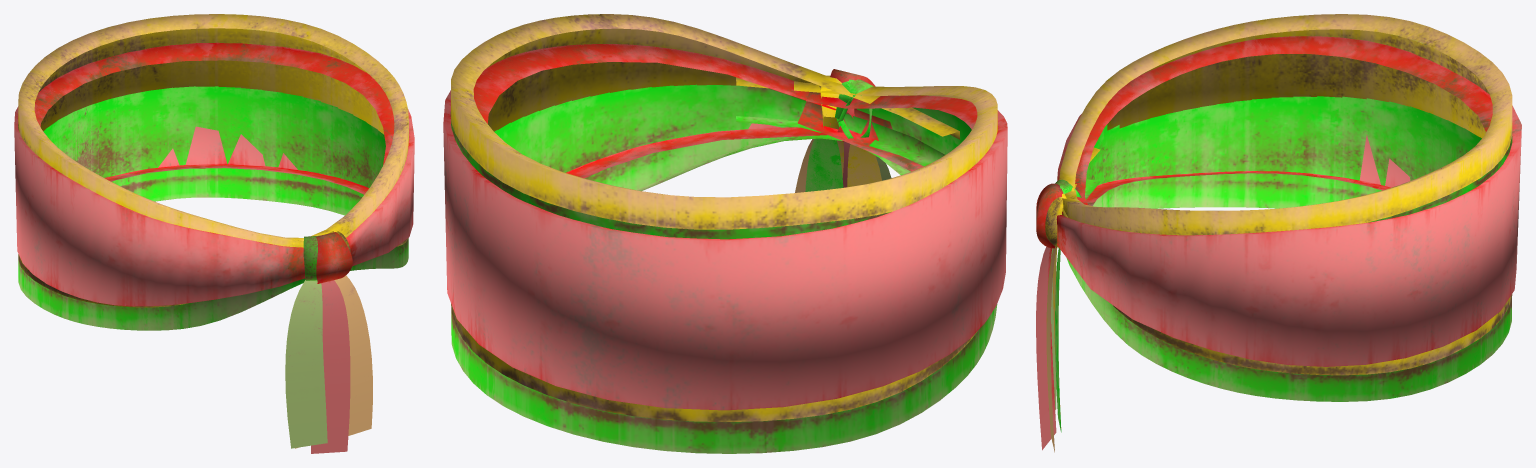
Rendered from hree_color_fabric.fbx.
The picture shows the model from 3 angles, left to right: view 1: azimuth 30°, elevation 25°; view 2: azimuth 150°, elevation 25°; view 3: azimuth 270°, elevation 25°; orthographic projection. The views are drawn at different scales.
Visible parts, largest first — view 1: NurbsPath.002; view 2: NurbsPath.002; view 3: NurbsPath.002.
Part boxes in pixels (box(x1,y1,x2,y2)): NurbsPath.002: box(14, 14, 414, 453); NurbsPath.002: box(443, 14, 1007, 453); NurbsPath.002: box(1036, 14, 1521, 452).
Bounding box in the file's own units: 209 × 164 × 217.
Materials: 1 (1 with a texture image).
